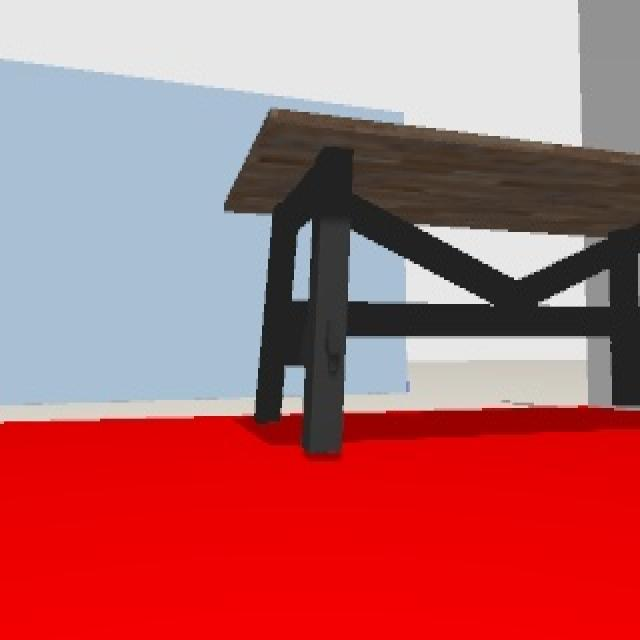dining: (218, 101, 640, 454)
